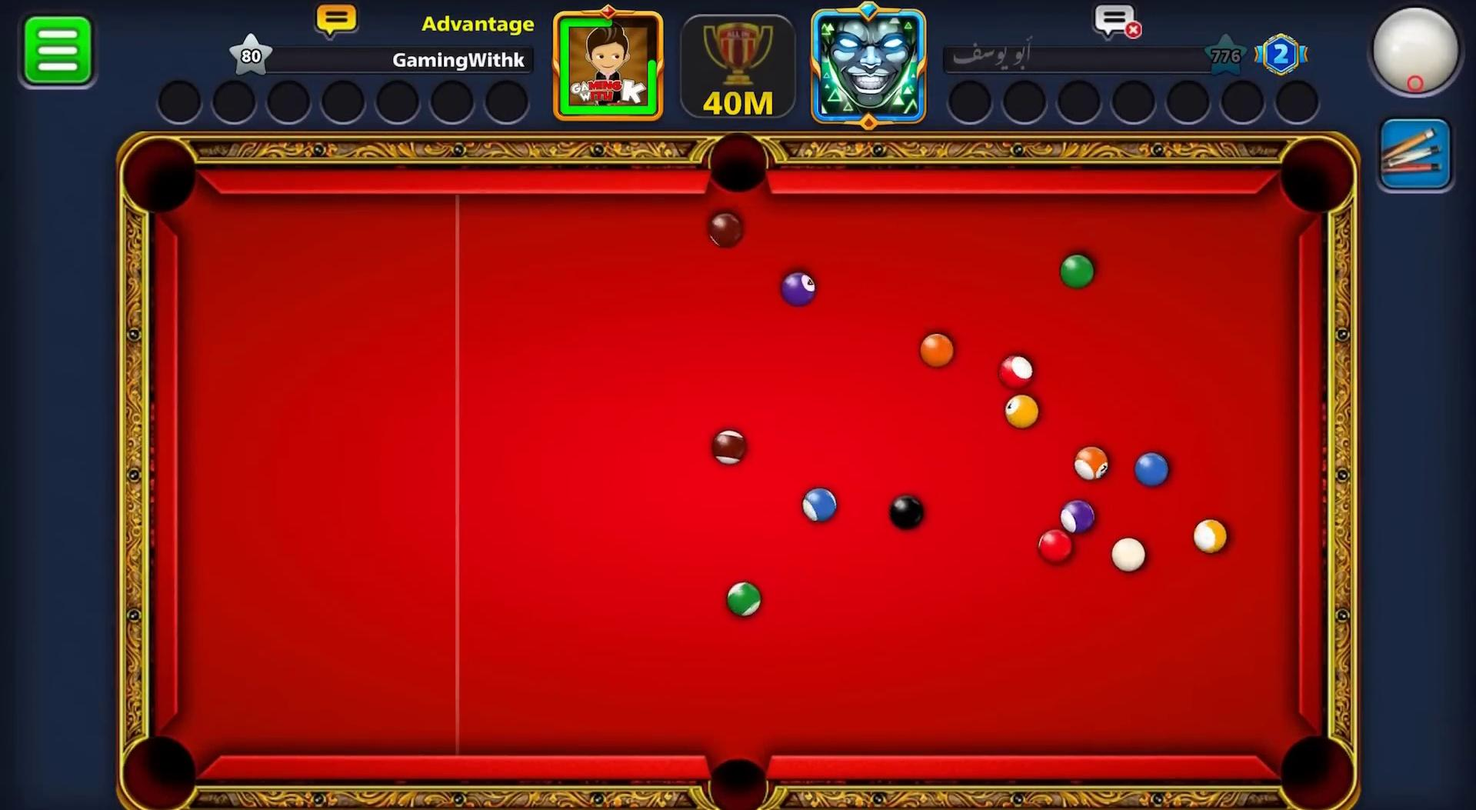Ball: (1034, 525, 1080, 575), (884, 489, 929, 536), (723, 578, 771, 622), (707, 425, 756, 466), (1057, 496, 1099, 539), (1072, 441, 1114, 484), (781, 268, 821, 310), (705, 207, 743, 250), (1058, 250, 1096, 290), (800, 485, 838, 523), (1135, 450, 1170, 489), (1191, 522, 1231, 556), (1006, 392, 1039, 433), (1001, 350, 1035, 388), (920, 332, 954, 366)
Hole: (119, 121, 216, 233), (1271, 119, 1366, 228), (1261, 721, 1369, 810), (115, 715, 211, 810), (694, 729, 787, 810), (703, 119, 775, 211)
Play_Area: (178, 191, 1298, 756)
Spin: (1357, 0, 1476, 117)
White: (1108, 537, 1151, 572)
